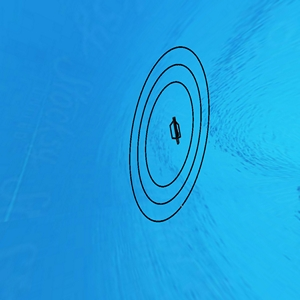circle: (122, 41, 212, 228)
submarine: (166, 117, 193, 149)
